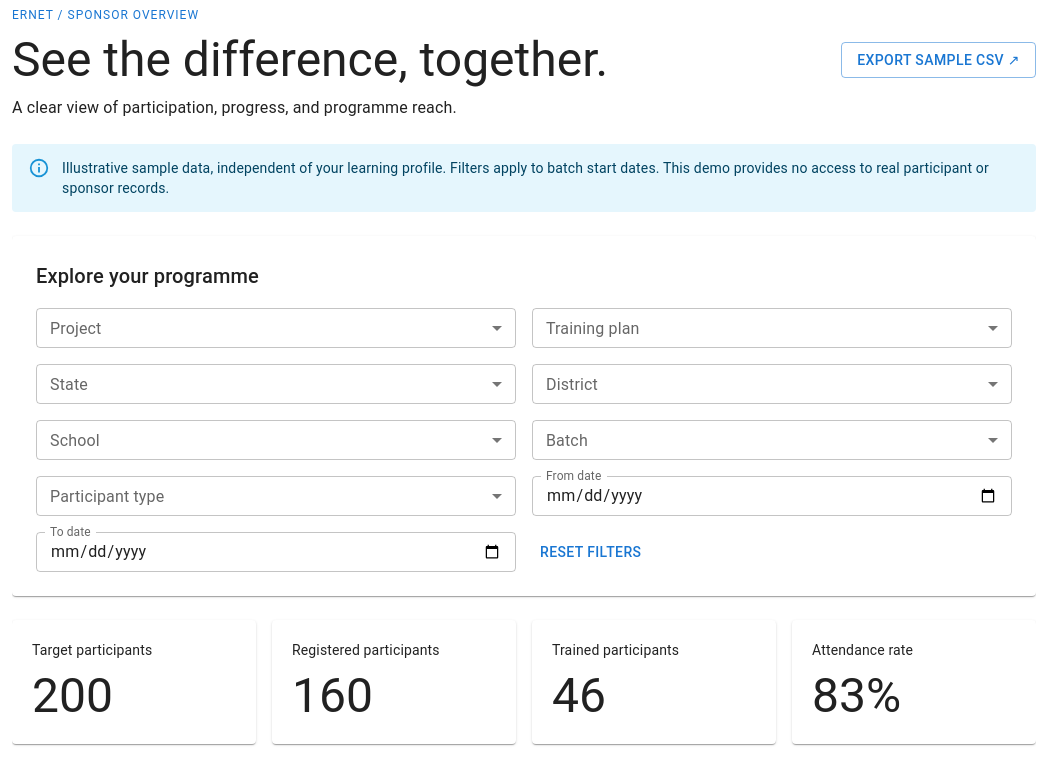
sample sponsor analytics › handles a no-match date range without misleading metrics or a downloadable report
Type "2027-01-01" into the date field labelled "From date" at (772, 496), box [532, 476, 1012, 516]
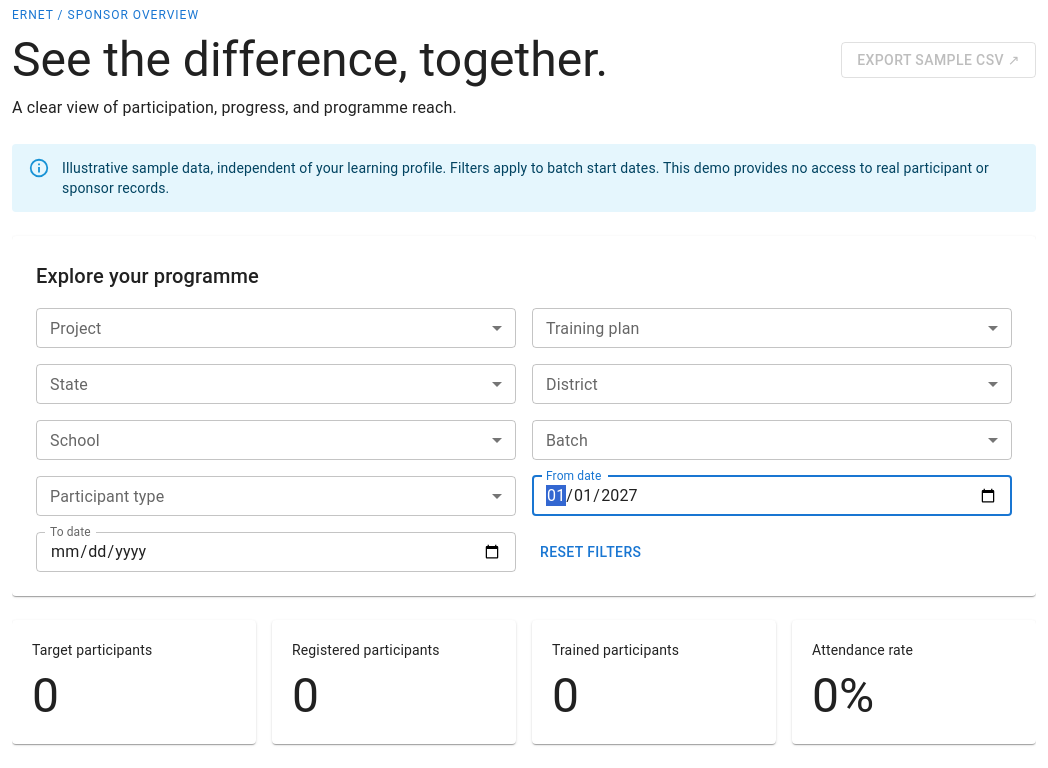
Now the button "Export sample CSV ↗" is disabled, box [841, 42, 1036, 78]
